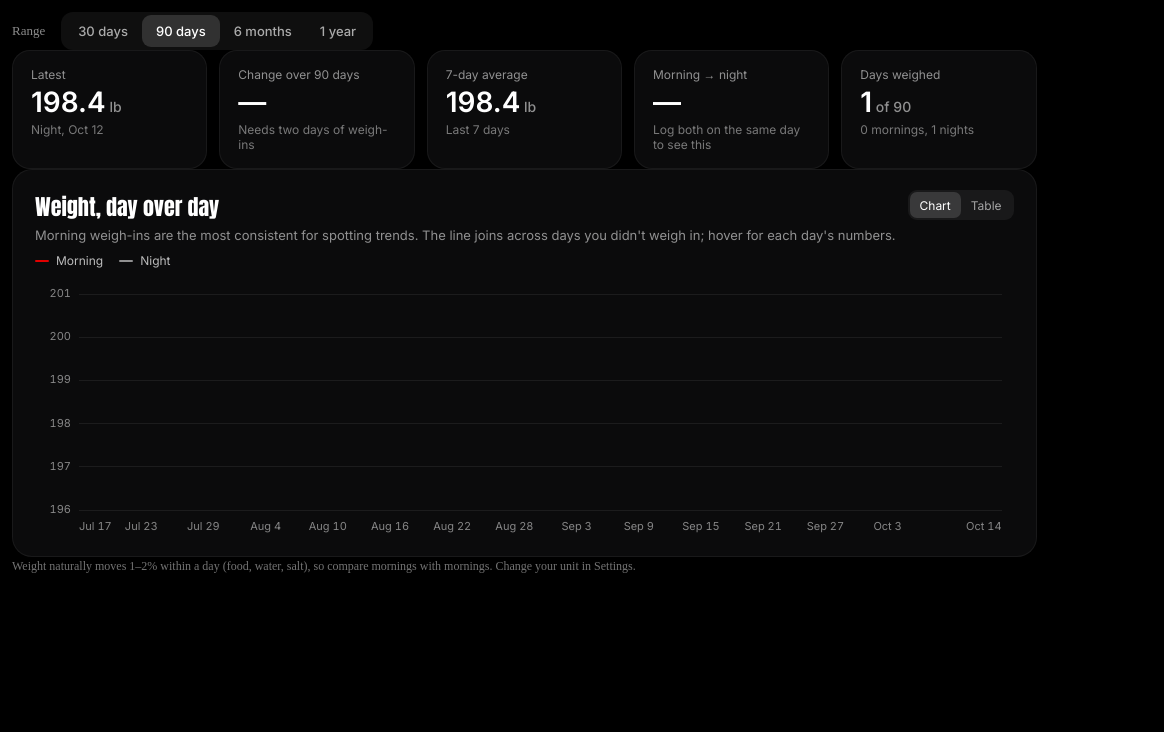
it: weight stats page › reloads for a different range
This screenshot has width=1164, height=732.
Expected: the text "Latest" is shown, [31,67,66,82]
Click the radio button labelled "30 days" at {"x": 103, "y": 31}, box [64,15,142,47]
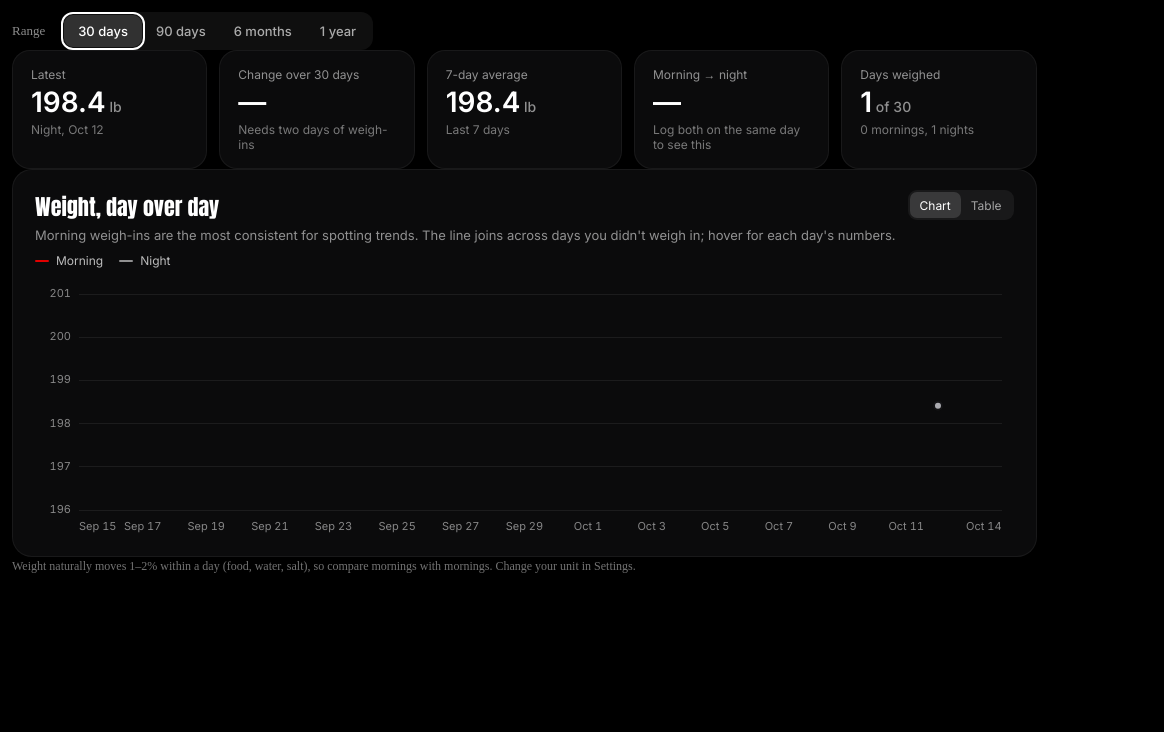
Expected: the text "Last 7 days" is shown, [446,122,510,137]
Expected: the text "Change over 30 days" is shown, [238,67,359,82]
